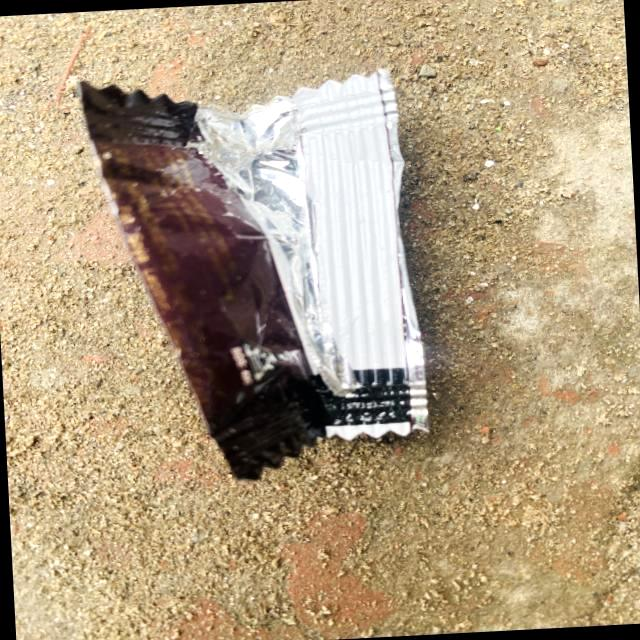packet: (76, 62, 469, 487)
